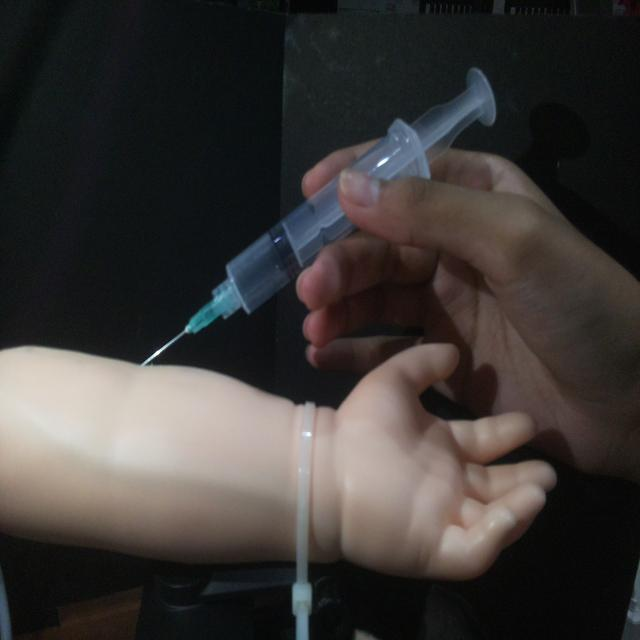28deg: (136, 62, 500, 370)
